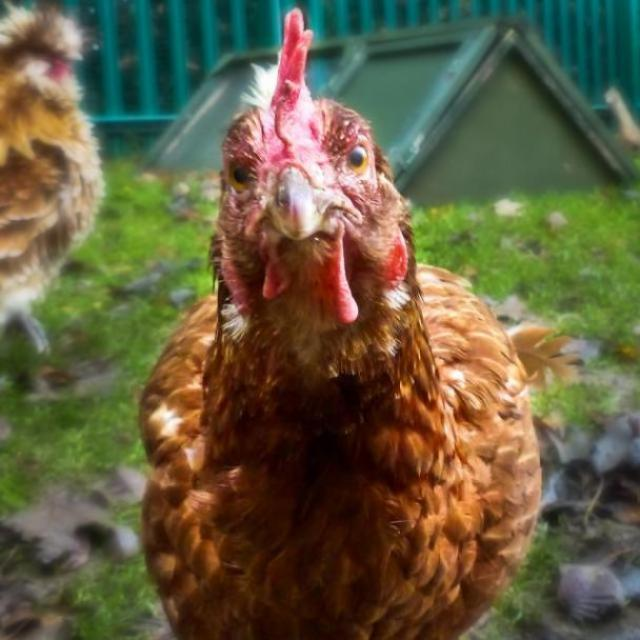Chicken: (122, 53, 585, 634), (0, 0, 106, 374)
